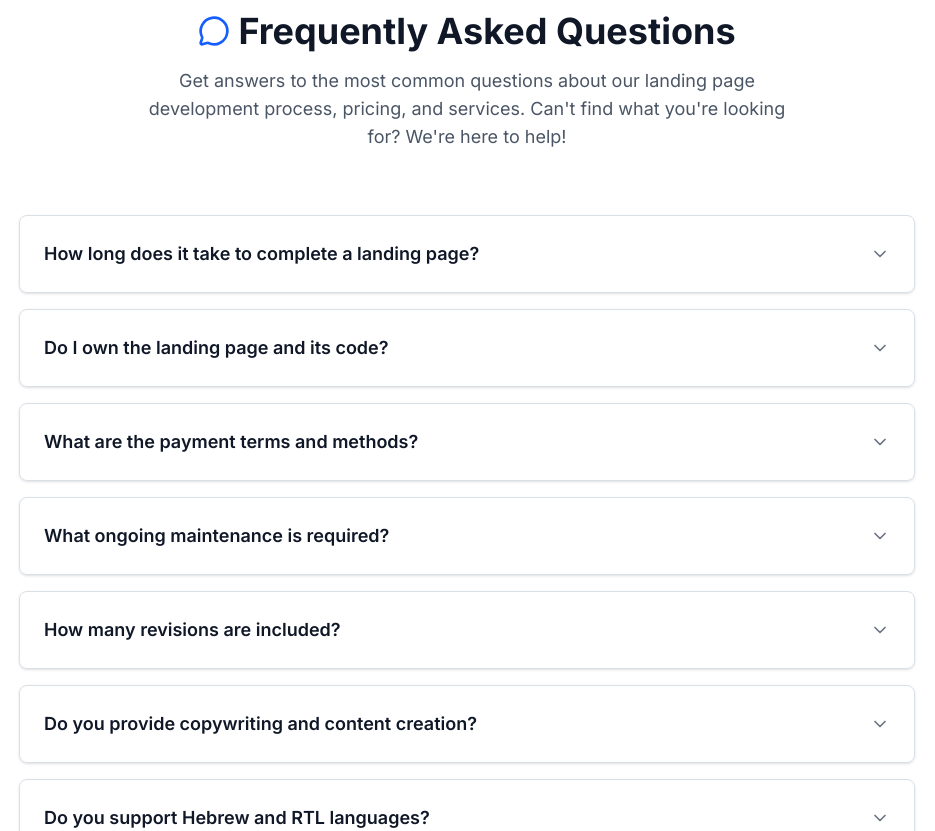
Test case: FAQ Component › Expand/Collapse Functionality › allows multiple FAQ items to be open simultaneously
Click the button "How long does it take to complete a landing page?".
click(467, 254)  # box [44,243,890,264]
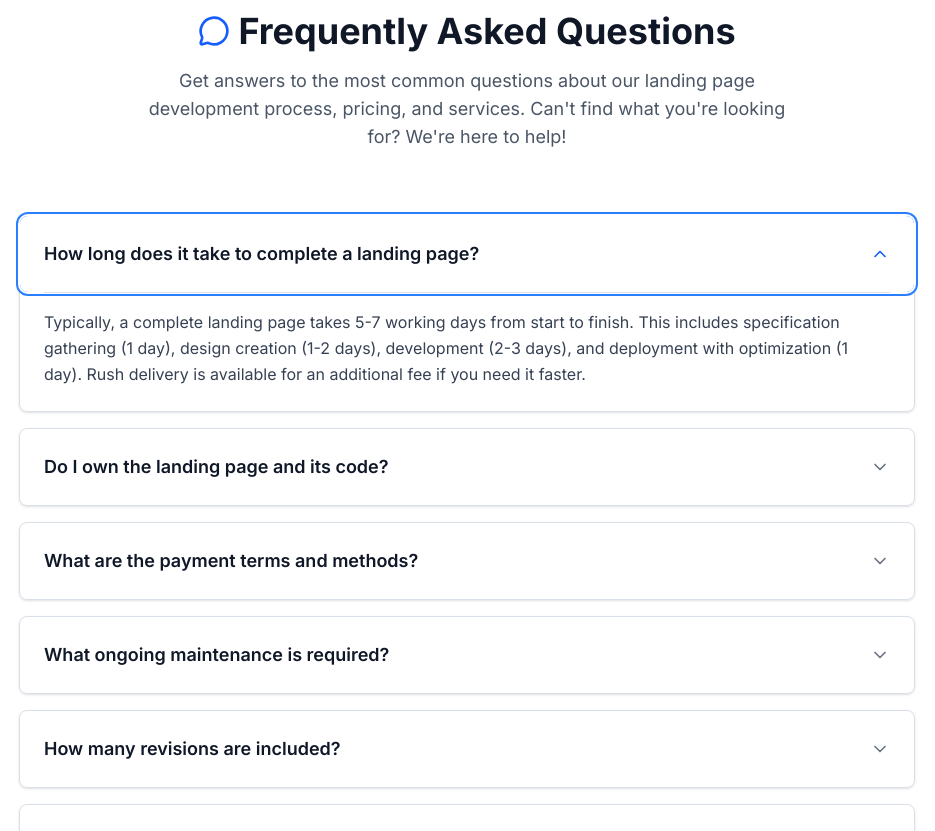
Click the button "Do I own the landing page and its code?".
click(216, 466)  # box [44,456,890,477]
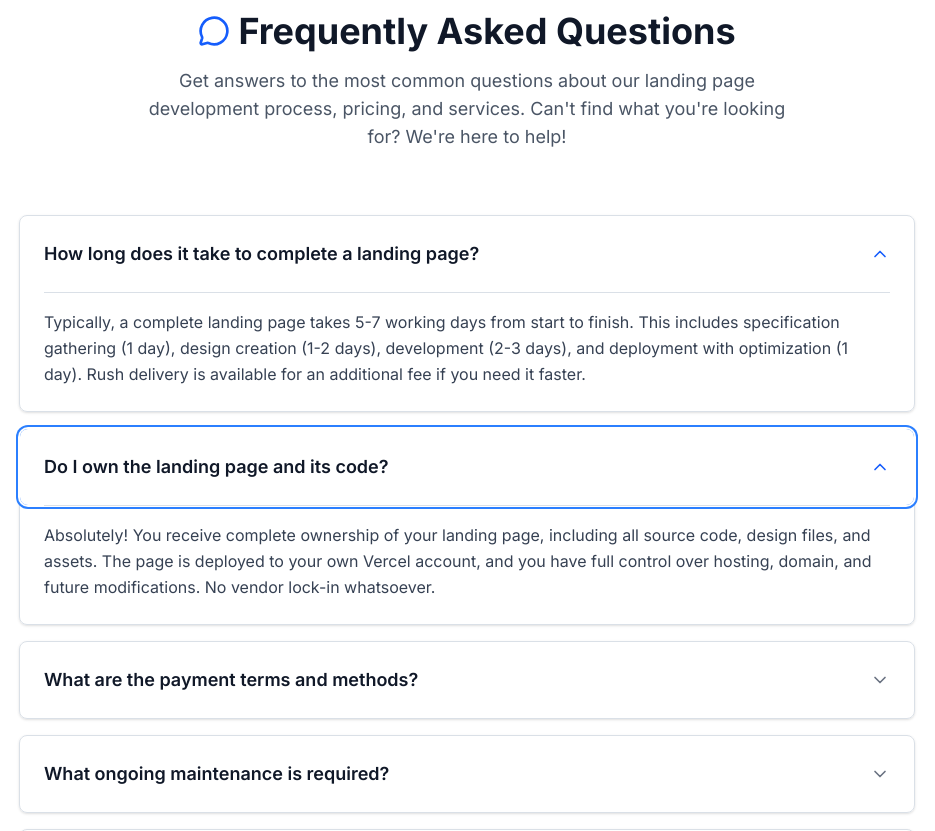
Expected: the button "How long does it take to complete a landing page?" is expanded, [44,243,890,264]
Expected: the text "Typically, a complete landing page takes 5-7 working days" is shown, [44,312,848,384]
Expected: the button "Do I own the landing page and its code?" is expanded, [20,429,914,505]
